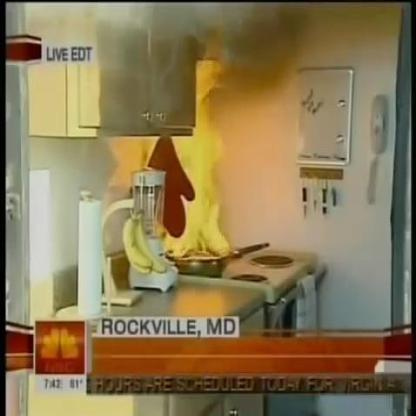fire: (150, 58, 236, 260)
